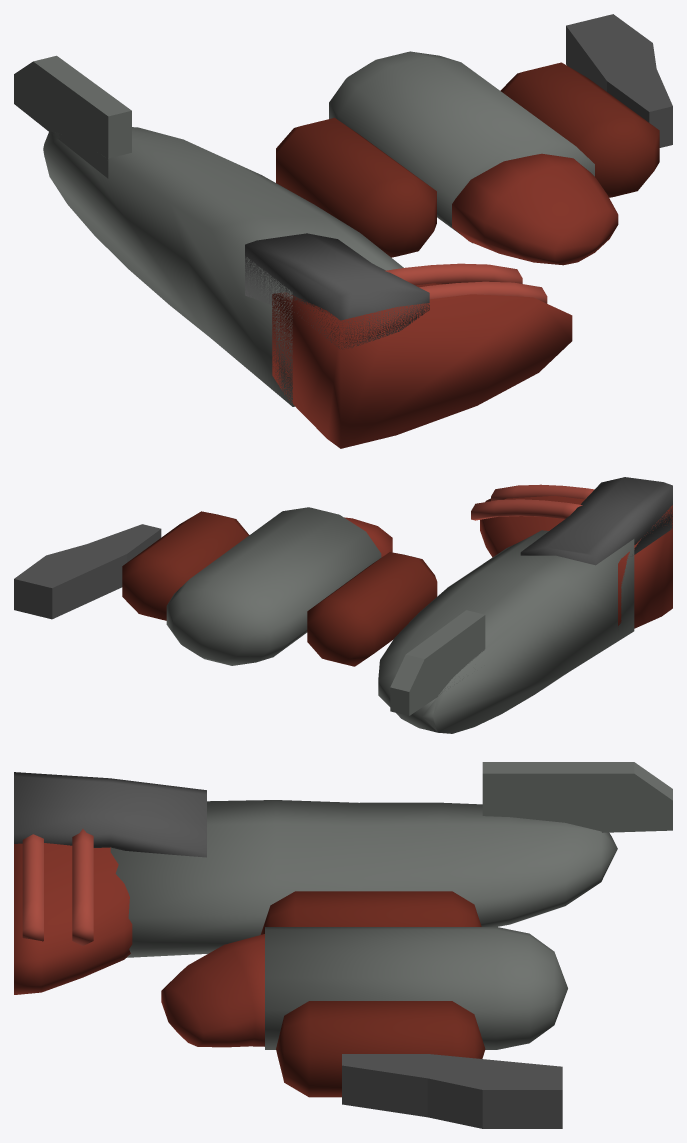
Rendered from newshi-203.glb.
3 renders of one model, top to bottom at view 1: azimuth 30°, elevation 25°; view 2: azimuth 150°, elevation 25°; view 3: azimuth 270°, elevation 25°, orthographic. The views are drawn at different scales.
Parts seen in each view (by area): view 1: newshi-203; view 2: newshi-203; view 3: newshi-203.
Part boxes in pixels (left/top/right/bottom): newshi-203: left=14, top=14, right=672, bottom=448; newshi-203: left=14, top=477, right=672, bottom=733; newshi-203: left=14, top=762, right=672, bottom=1128.
Bounding box in the file's own units: 1.92 × 0.5458 × 1.99.
